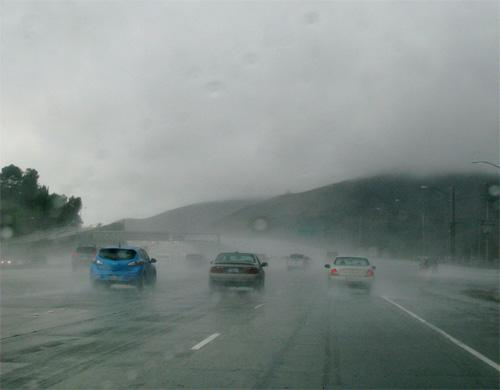airplane: (85, 244, 156, 282), (208, 251, 267, 291), (70, 243, 128, 273), (70, 245, 98, 272), (286, 252, 311, 269)
bench: (84, 244, 157, 282), (206, 249, 266, 291), (70, 243, 128, 273), (71, 244, 97, 272)
bicycle: (417, 255, 439, 273)
boat: (88, 244, 157, 284), (74, 237, 153, 269), (208, 251, 267, 291), (70, 243, 128, 273), (96, 260, 152, 286), (100, 243, 157, 266), (176, 244, 208, 268), (70, 244, 97, 272), (74, 242, 113, 261), (130, 244, 158, 266), (105, 276, 139, 290), (286, 252, 311, 269), (184, 253, 208, 269), (74, 242, 98, 256), (110, 282, 138, 290)
bus: (84, 244, 157, 282), (207, 250, 267, 291), (70, 243, 128, 273), (323, 256, 375, 288), (70, 244, 97, 272), (286, 253, 312, 270)
car: (328, 253, 408, 292), (84, 244, 157, 282), (207, 251, 266, 292), (70, 243, 128, 273), (323, 255, 375, 288), (88, 243, 146, 268), (266, 251, 311, 272), (322, 254, 371, 273), (213, 250, 266, 267), (339, 268, 375, 290), (294, 251, 329, 273), (70, 245, 98, 272), (74, 242, 113, 261), (311, 251, 343, 273), (286, 255, 318, 277), (416, 253, 449, 272), (322, 255, 349, 278), (242, 252, 269, 267), (287, 253, 312, 269), (320, 259, 339, 280), (280, 254, 304, 270), (185, 253, 209, 269), (285, 251, 306, 264), (251, 216, 268, 231), (321, 254, 336, 270), (416, 255, 431, 271), (75, 243, 96, 253), (256, 258, 270, 273), (298, 252, 311, 268), (255, 253, 269, 267), (322, 261, 336, 273), (365, 264, 376, 278)
kite: (286, 252, 311, 269), (251, 217, 268, 232)
motorcycle: (287, 253, 312, 269)
person: (80, 242, 156, 281), (206, 250, 268, 292), (79, 243, 108, 275), (70, 245, 97, 272), (287, 252, 311, 269), (83, 245, 97, 265), (70, 249, 81, 272)
sports ball: (252, 217, 268, 231)
traffic light: (252, 217, 268, 231)
truck: (84, 244, 157, 282), (207, 250, 267, 291), (70, 243, 128, 273), (323, 256, 375, 288), (70, 244, 97, 272), (74, 242, 113, 261), (286, 253, 311, 270), (184, 253, 209, 270)
